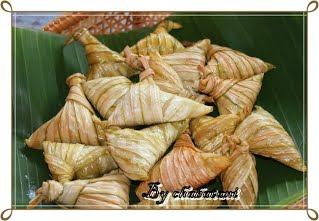kanomtom: (102, 69, 222, 134), (128, 126, 236, 195), (26, 71, 119, 150), (219, 102, 308, 176), (197, 35, 277, 91)
